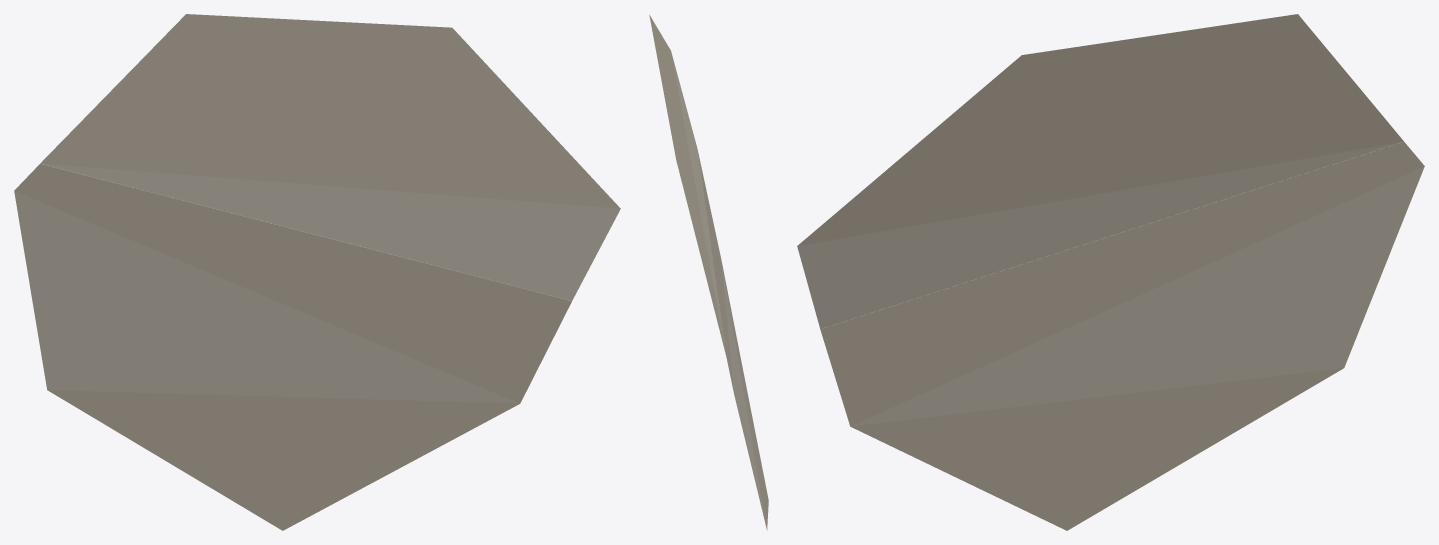
File: SM_MS3_Feed_Eco_07_1.fbx
3 views of the same model, side by side, from view 1: azimuth 30°, elevation 25°; view 2: azimuth 150°, elevation 25°; view 3: azimuth 270°, elevation 25° (orthographic). The views are drawn at different scales.
Visible parts, largest first — view 1: SM_MS3_Feed_Eco_07_1; view 2: SM_MS3_Feed_Eco_07_1; view 3: SM_MS3_Feed_Eco_07_1.
Part boxes in pixels (x1,y1,x2,y2): SM_MS3_Feed_Eco_07_1: [14, 14, 620, 530]; SM_MS3_Feed_Eco_07_1: [649, 15, 768, 530]; SM_MS3_Feed_Eco_07_1: [797, 14, 1424, 530].
Bounding box in the file's own units: 2.08 × 2.86 × 2.82.
